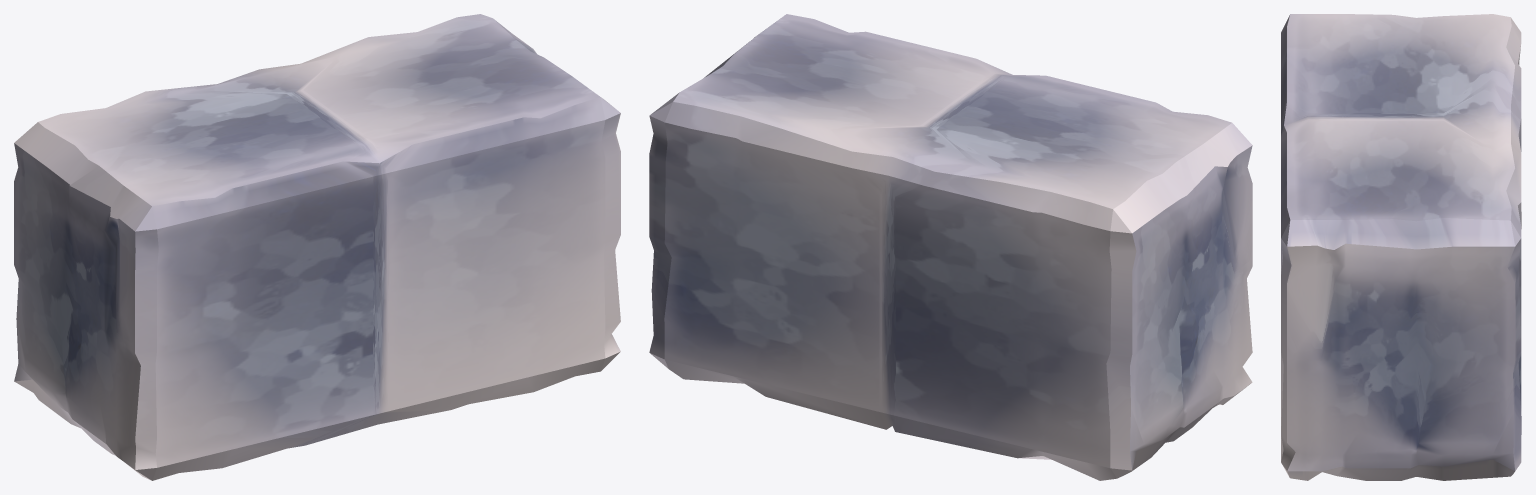
Rendered from snow_blockcap.fbx.
The picture shows the model from 3 angles, left to right: view 1: azimuth 30°, elevation 25°; view 2: azimuth 150°, elevation 25°; view 3: azimuth 270°, elevation 25°; orthographic projection. The views are drawn at different scales.
Parts seen in each view (by area): view 1: snowy_blockcap; view 2: snowy_blockcap; view 3: snowy_blockcap.
Part boxes in pixels (bbox=[...]): snowy_blockcap: bbox=[14, 14, 620, 480]; snowy_blockcap: bbox=[649, 14, 1252, 480]; snowy_blockcap: bbox=[1281, 14, 1521, 480].
Size of the model in its own units: 220 by 120 by 100.
